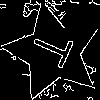T: (28, 26, 83, 73)
